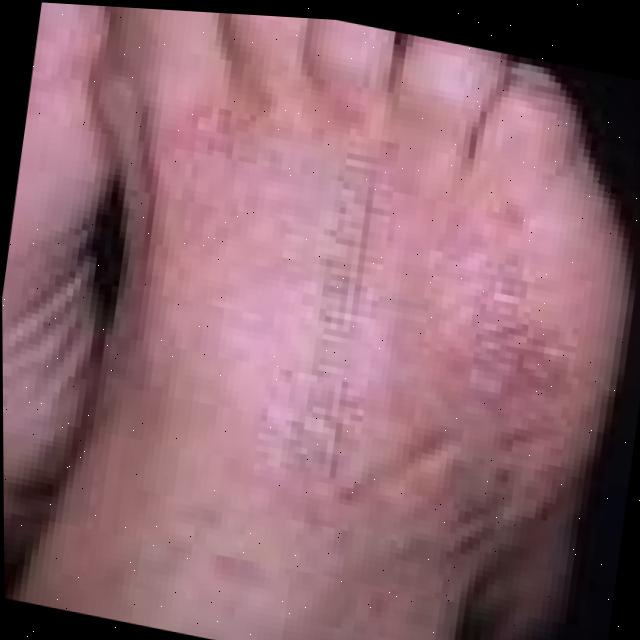Melasma: (408, 212, 593, 449), (173, 102, 272, 178)
